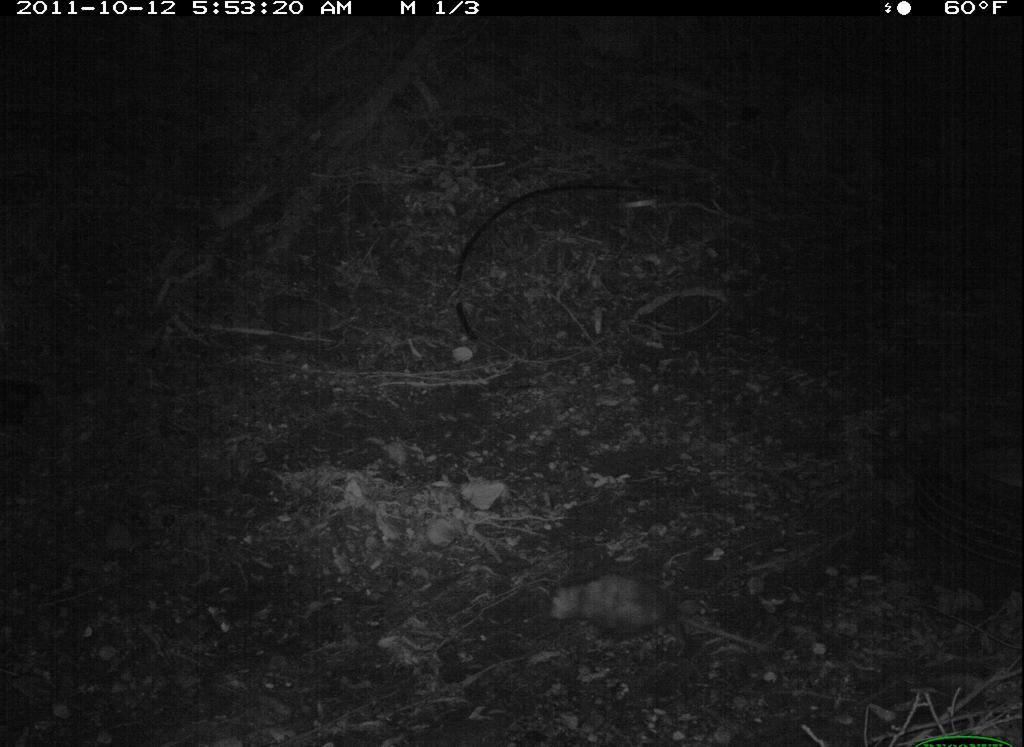opossum: (543, 575, 781, 662)
